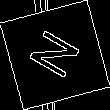N_SE: (23, 25, 87, 85)
